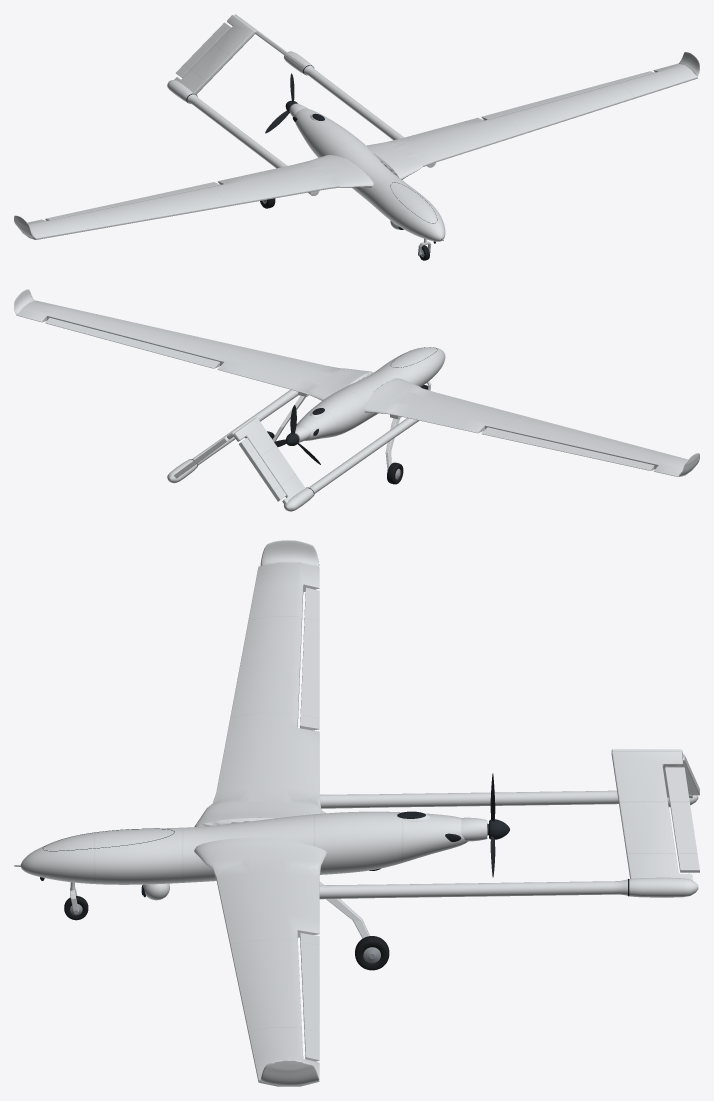
Rendered from UAV_Custom.fbx.
3 views of the same model, one above another, from view 1: azimuth 30°, elevation 25°; view 2: azimuth 150°, elevation 25°; view 3: azimuth 270°, elevation 25° (orthographic). The views are drawn at different scales.
Parts seen in each view (by area): view 1: Wing_Main, Fuselage, TailBoom_Pair, Aileron_Left, Aileron_Right, Ruddervator_Right, Wingtip_Upturn_Pair; view 2: Wing_Main, TailBoom_Pair, Fuselage, Aileron_Left, Aileron_Right, Ruddervator_Right, Wingtip_Upturn_Pair, MainGear_Strut_Pair; view 3: Wing_Main, Fuselage, TailBoom_Pair, Wingtip_Upturn_Pair, Aileron_Right, Aileron_Left, Ruddervator_Left.
Boxes of the visible parts, x1,y1,x2,y2 form: Wing_Main: [18, 63, 697, 239]; Fuselage: [294, 108, 445, 241]; TailBoom_Pair: [167, 14, 435, 195]; Aileron_Left: [481, 71, 654, 120]; Aileron_Right: [45, 182, 219, 220]; Ruddervator_Right: [176, 22, 231, 77]; Wingtip_Upturn_Pair: [14, 52, 699, 238]; Wing_Main: [16, 300, 697, 476]; TailBoom_Pair: [167, 389, 418, 511]; Fuselage: [296, 347, 445, 440]; Aileron_Left: [45, 317, 219, 368]; Aileron_Right: [481, 427, 654, 470]; Ruddervator_Right: [239, 438, 286, 501]; Wingtip_Upturn_Pair: [14, 289, 699, 476]; MainGear_Strut_Pair: [272, 395, 400, 470]; Wing_Main: [194, 562, 327, 1086]; Fuselage: [21, 811, 467, 884]; TailBoom_Pair: [319, 749, 698, 899]; Wingtip_Upturn_Pair: [260, 540, 319, 1085]; Aileron_Right: [300, 587, 319, 730]; Aileron_Left: [300, 933, 319, 1061]; Ruddervator_Left: [665, 767, 699, 872].
Bounding box in the file's own units: 12.14 × 1.84 × 6.77.
Materials: 1 (1 with a texture image).
